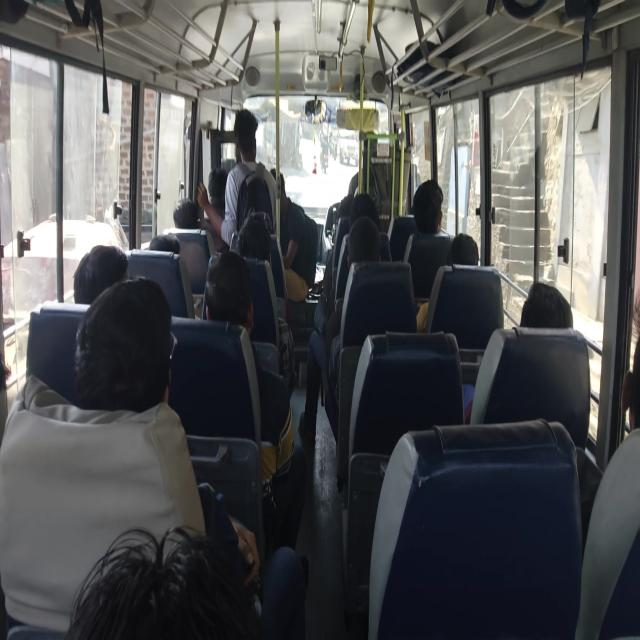person: (62, 524, 260, 638), (576, 298, 640, 632), (477, 279, 577, 440), (73, 278, 173, 414), (221, 108, 277, 249), (419, 232, 479, 335), (404, 180, 454, 296), (272, 172, 313, 299), (203, 249, 253, 331), (72, 244, 129, 309), (520, 280, 575, 330), (622, 296, 640, 436), (346, 214, 382, 266), (348, 192, 378, 229), (449, 232, 480, 267), (207, 166, 230, 209), (173, 198, 199, 230), (148, 233, 181, 256), (336, 195, 352, 224)
